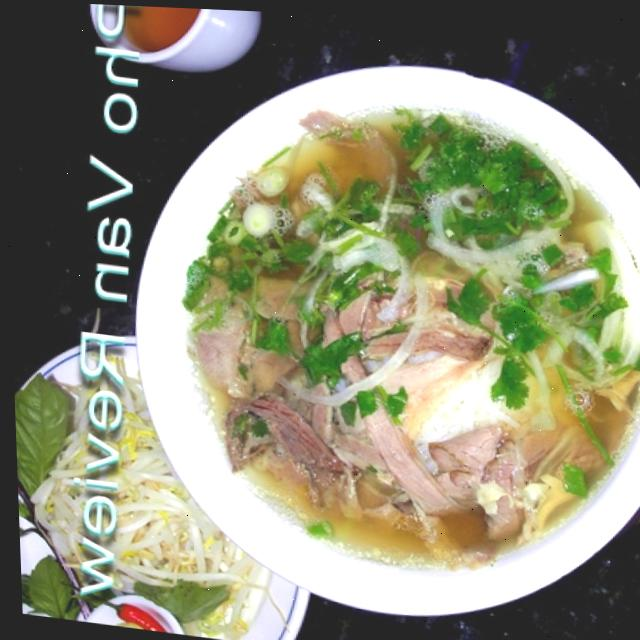面条主食: (69, 23, 640, 640)
